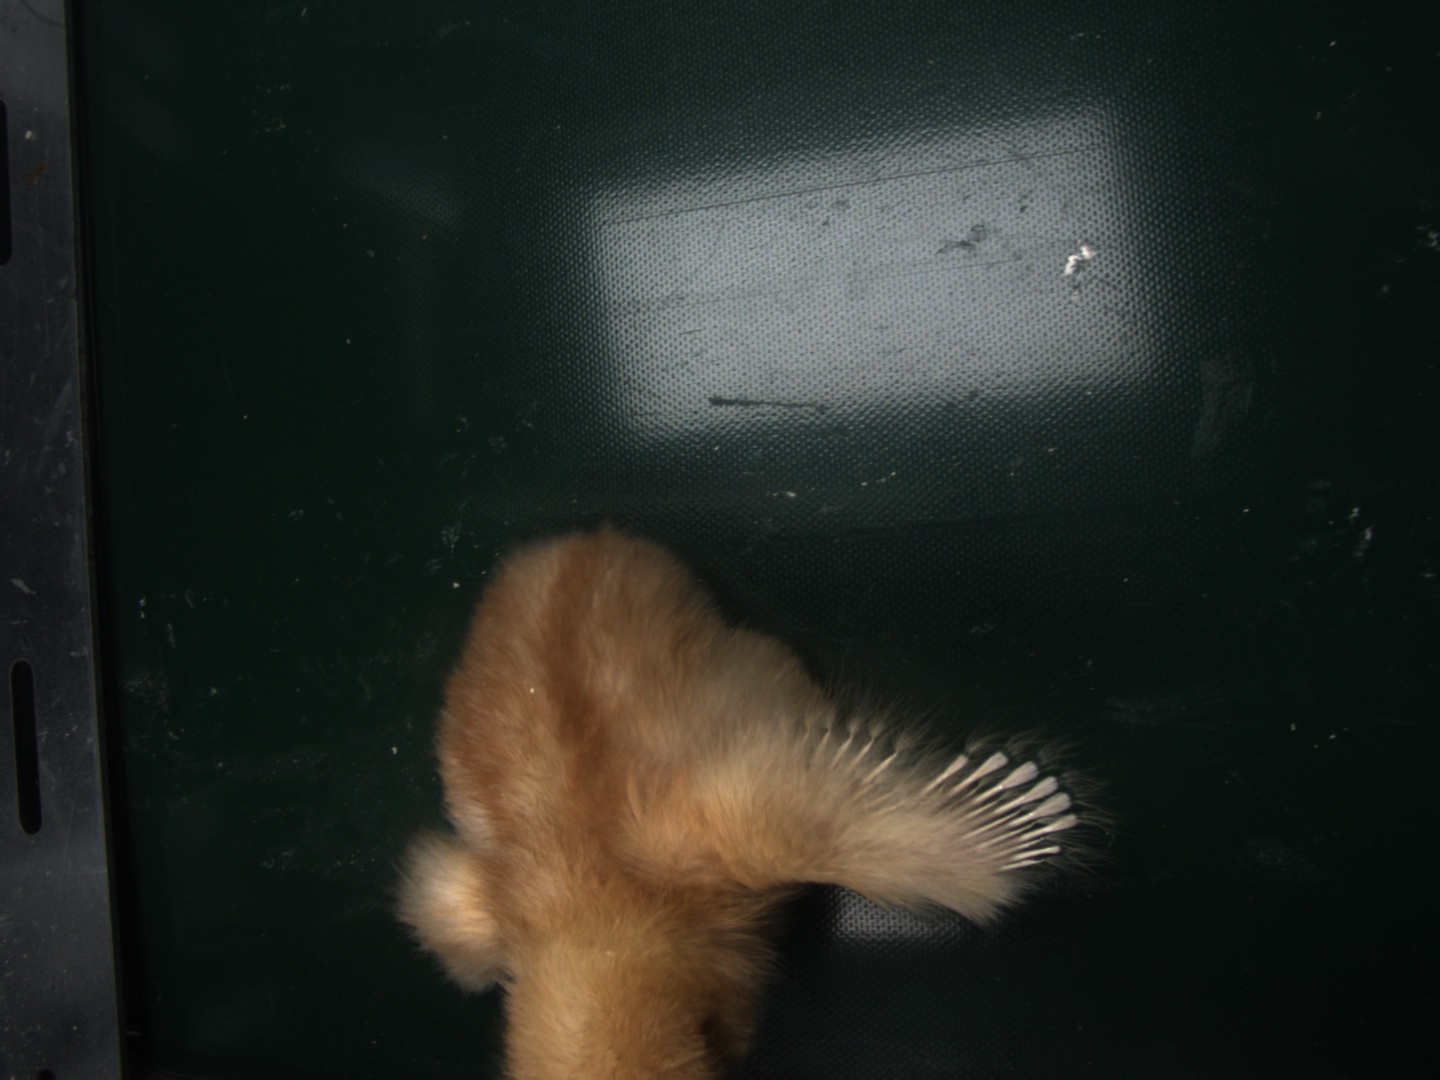female: (920, 749, 1081, 878)
